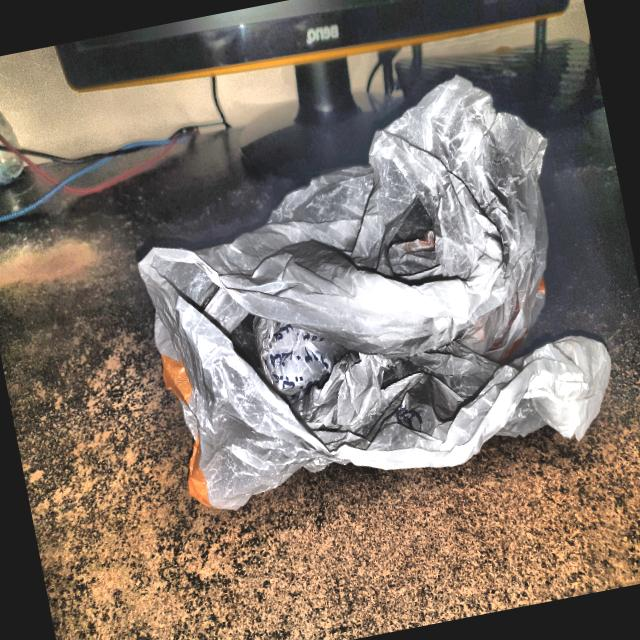plastic bag: (100, 52, 632, 537)
